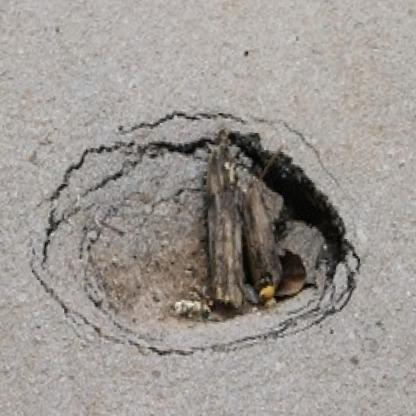pothole: (16, 87, 380, 375)
